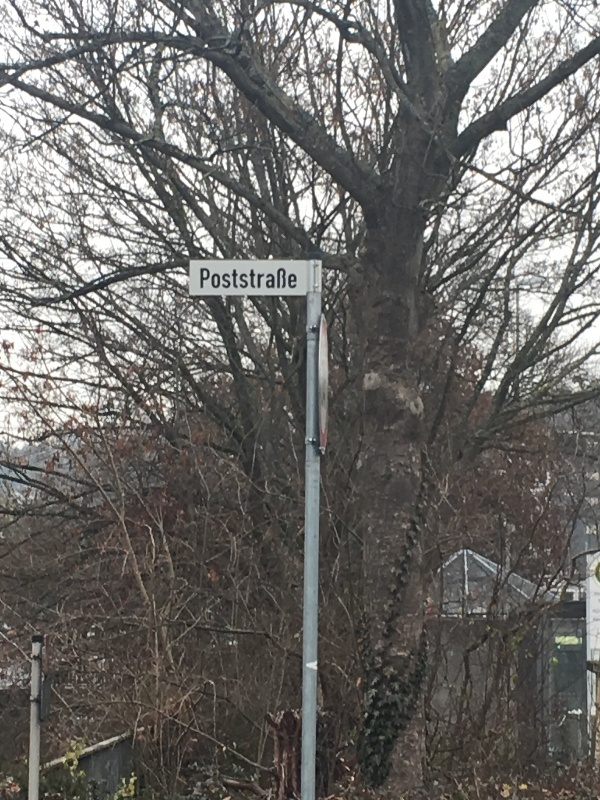text: (209, 269, 224, 289), (225, 269, 240, 289), (241, 269, 256, 289), (257, 269, 272, 289), (273, 269, 288, 289), (289, 269, 297, 289), (201, 269, 208, 289)
